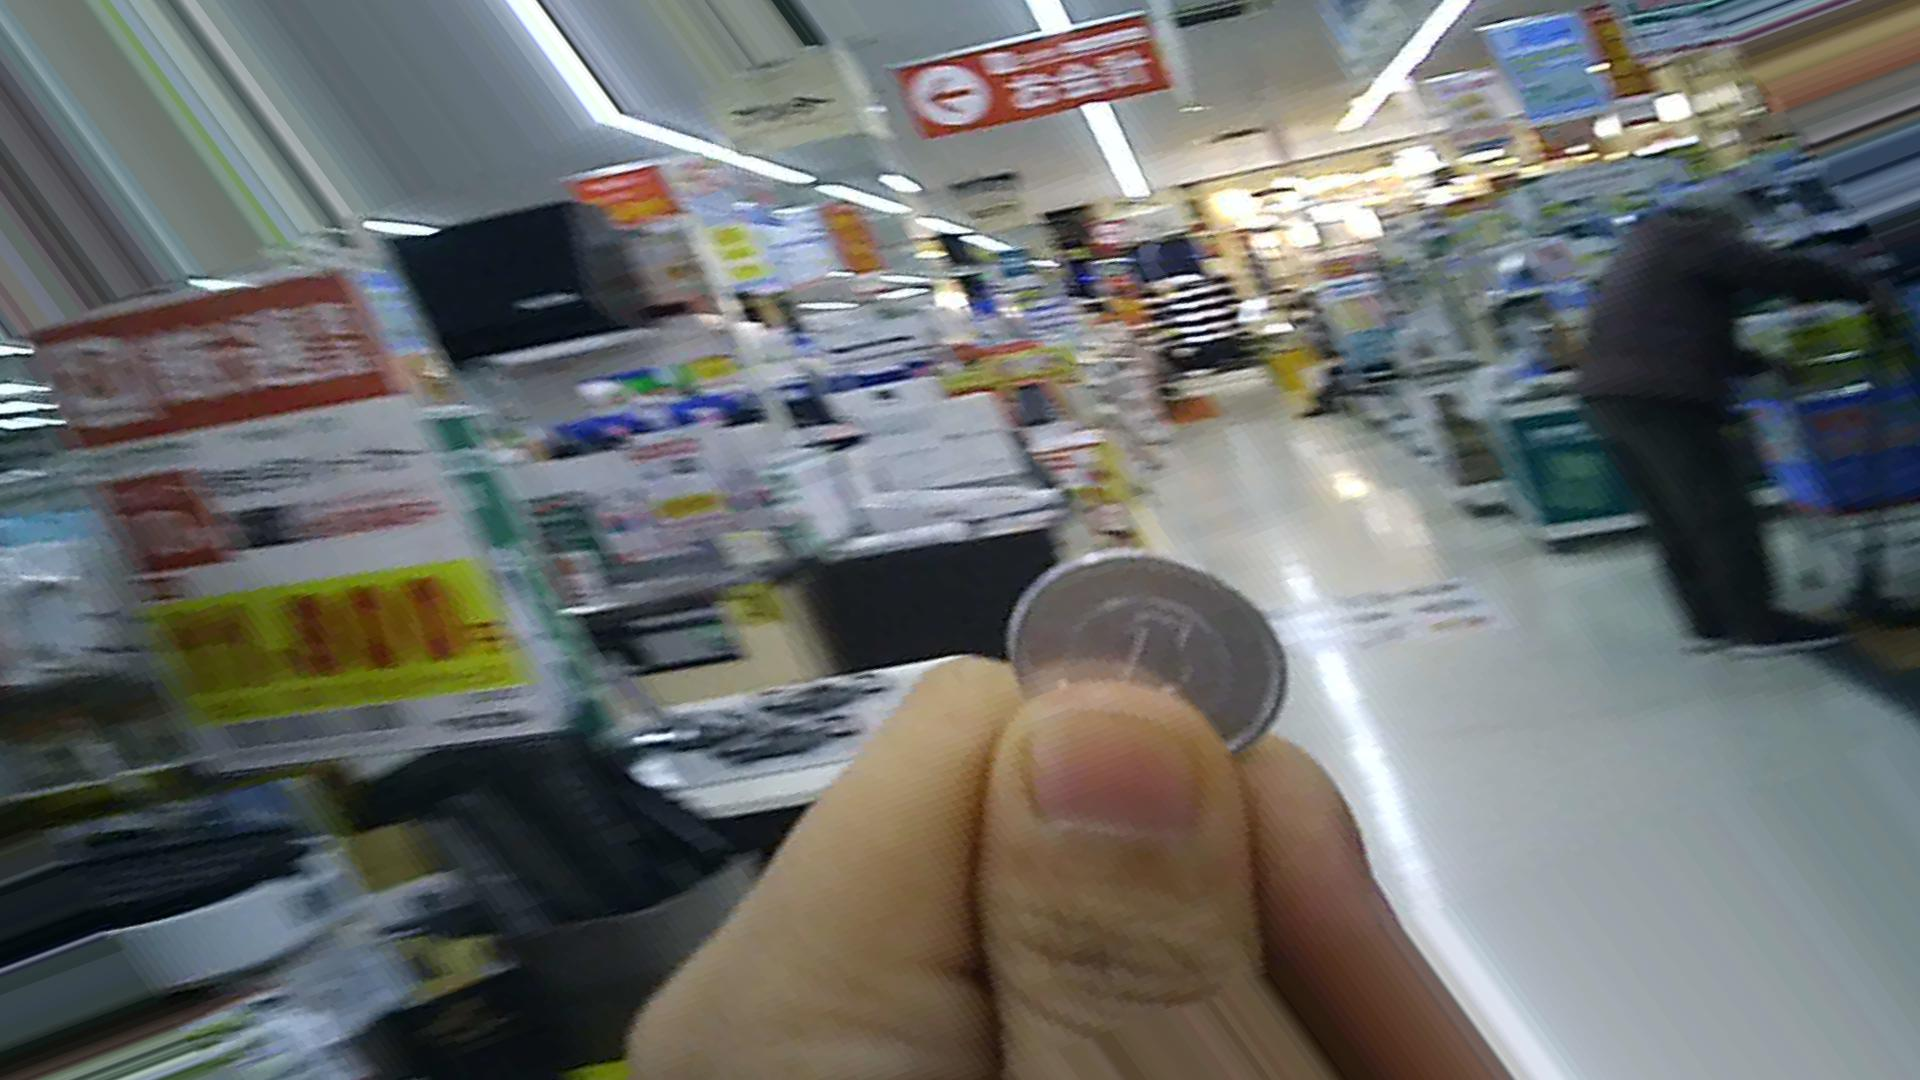1 Yen: (1011, 545, 1287, 793)
